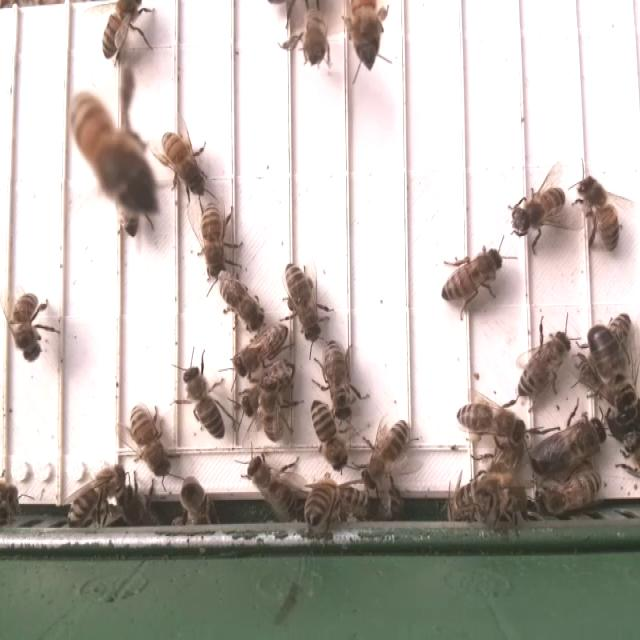Drone: (526, 415, 610, 483), (586, 319, 635, 420)
Worker: (515, 324, 575, 401), (438, 250, 505, 306), (577, 173, 622, 255), (229, 321, 289, 382), (179, 362, 224, 442), (454, 396, 527, 445), (361, 420, 412, 490), (128, 401, 170, 484), (282, 259, 322, 345), (510, 182, 569, 239), (310, 393, 350, 475), (320, 336, 357, 424), (160, 127, 206, 195), (98, 0, 143, 67), (534, 473, 604, 516), (217, 275, 266, 334), (9, 288, 46, 366), (198, 196, 229, 284)
